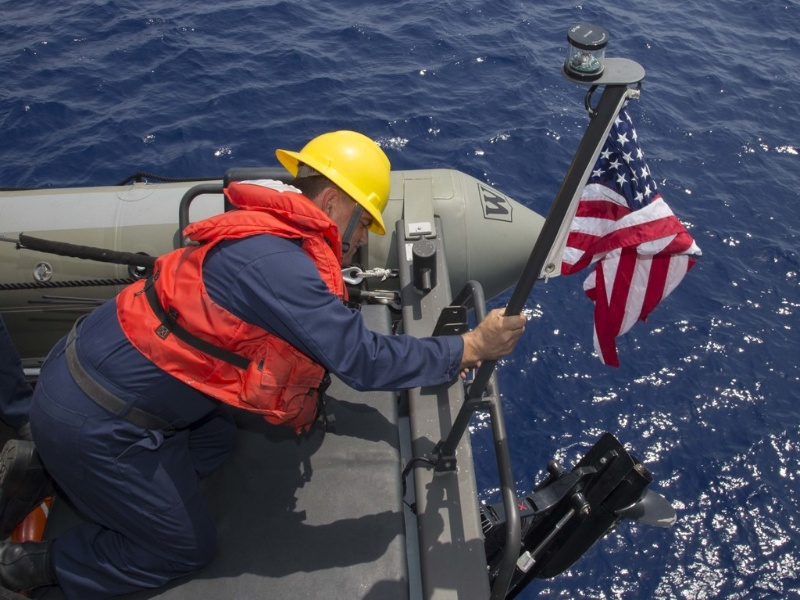Baret: (277, 130, 388, 233)
